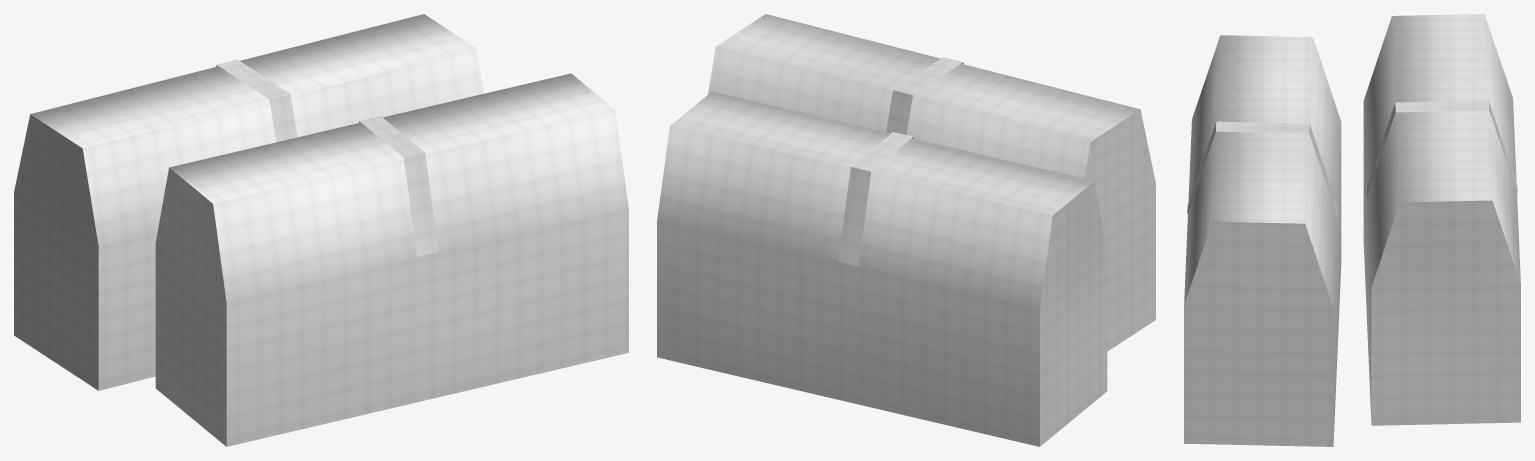
The model's file is food_hay_b.obj.
3 views of the same model, side by side, from view 1: azimuth 30°, elevation 25°; view 2: azimuth 150°, elevation 25°; view 3: azimuth 270°, elevation 25° (orthographic). The views are drawn at different scales.
Parts seen in each view (by area): view 1: bale_2, bale_1, tie_2, tie_1; view 2: bale_1, bale_2, tie_1, tie_2; view 3: bale_1, bale_2, tie_1, tie_2.
Boxes of the visible parts, x1,y1,x2,y2 form: bale_2: [155, 73, 628, 446]; bale_1: [14, 14, 483, 390]; tie_2: [359, 116, 438, 256]; tie_1: [216, 59, 297, 142]; bale_1: [657, 91, 1107, 446]; bale_2: [708, 14, 1155, 351]; tie_1: [838, 132, 913, 265]; tie_2: [886, 57, 963, 134]; bale_1: [1363, 14, 1520, 425]; bale_2: [1184, 35, 1341, 446]; tie_1: [1366, 100, 1517, 196]; tie_2: [1187, 121, 1338, 218].
Bounding box in the file's own units: 0.656 × 0.3256 × 0.4428.
